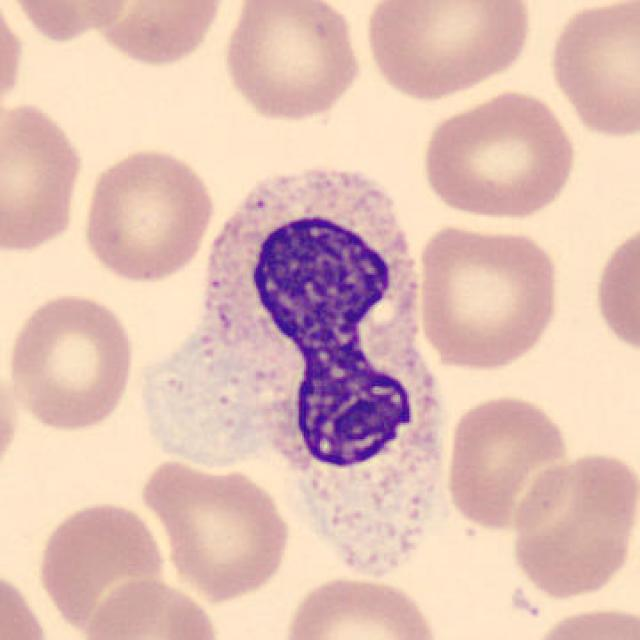Neutrophil: (153, 150, 457, 516)
RBC: (131, 326, 297, 473), (137, 453, 295, 603), (411, 219, 564, 372), (416, 86, 580, 222), (505, 446, 638, 603), (2, 288, 138, 436), (78, 143, 217, 287), (441, 390, 574, 534), (32, 496, 167, 636), (217, 0, 366, 125), (361, 0, 537, 104), (0, 97, 87, 256), (542, 0, 638, 143), (279, 571, 445, 640), (86, 0, 230, 69), (78, 573, 222, 640), (590, 215, 638, 365), (2, 0, 137, 46), (519, 603, 638, 640), (0, 562, 53, 639), (0, 0, 28, 123), (0, 358, 23, 485)
